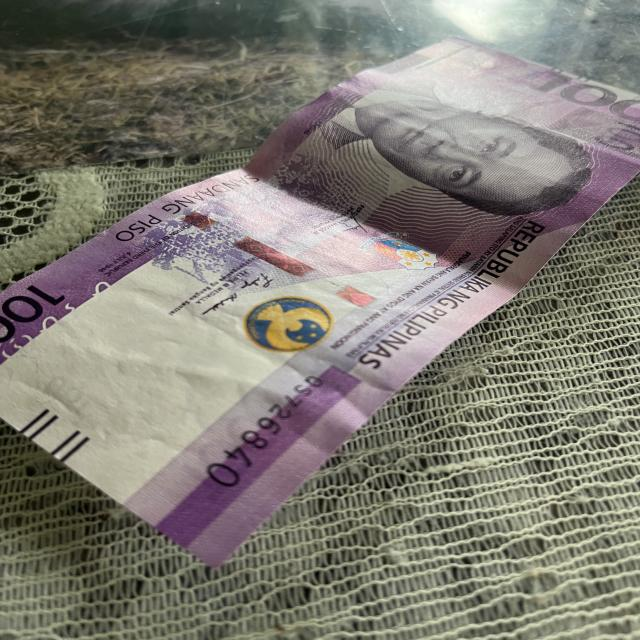concealed_value: (544, 107, 640, 161)
security_thread: (146, 194, 459, 348)
see_through_mark: (0, 276, 115, 373)
serial_number: (188, 365, 329, 489)
value_watermark: (35, 372, 101, 421)
